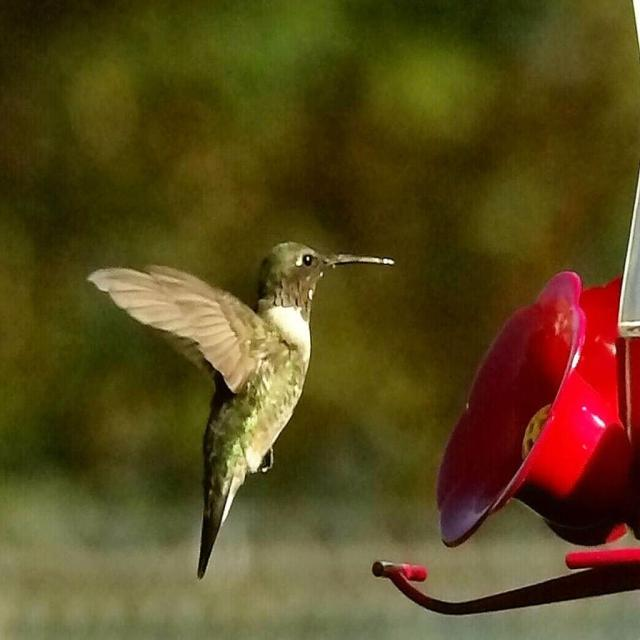Humming Bird: (100, 232, 405, 560)
